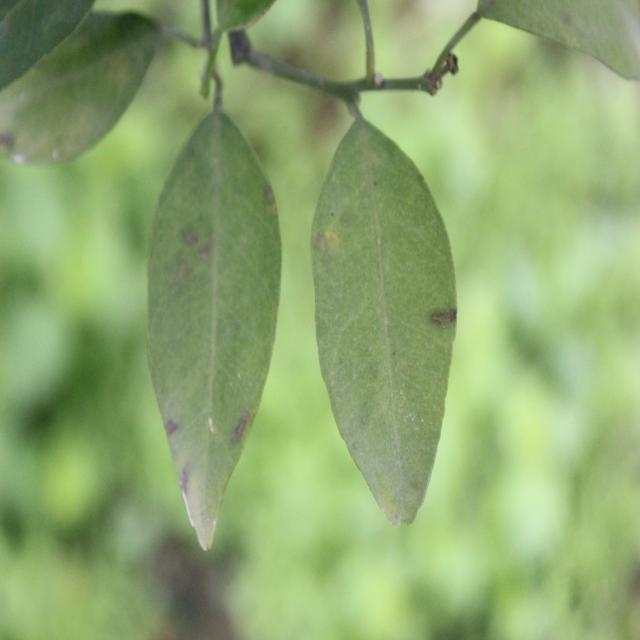canker: (150, 165, 278, 535), (314, 179, 457, 435)
